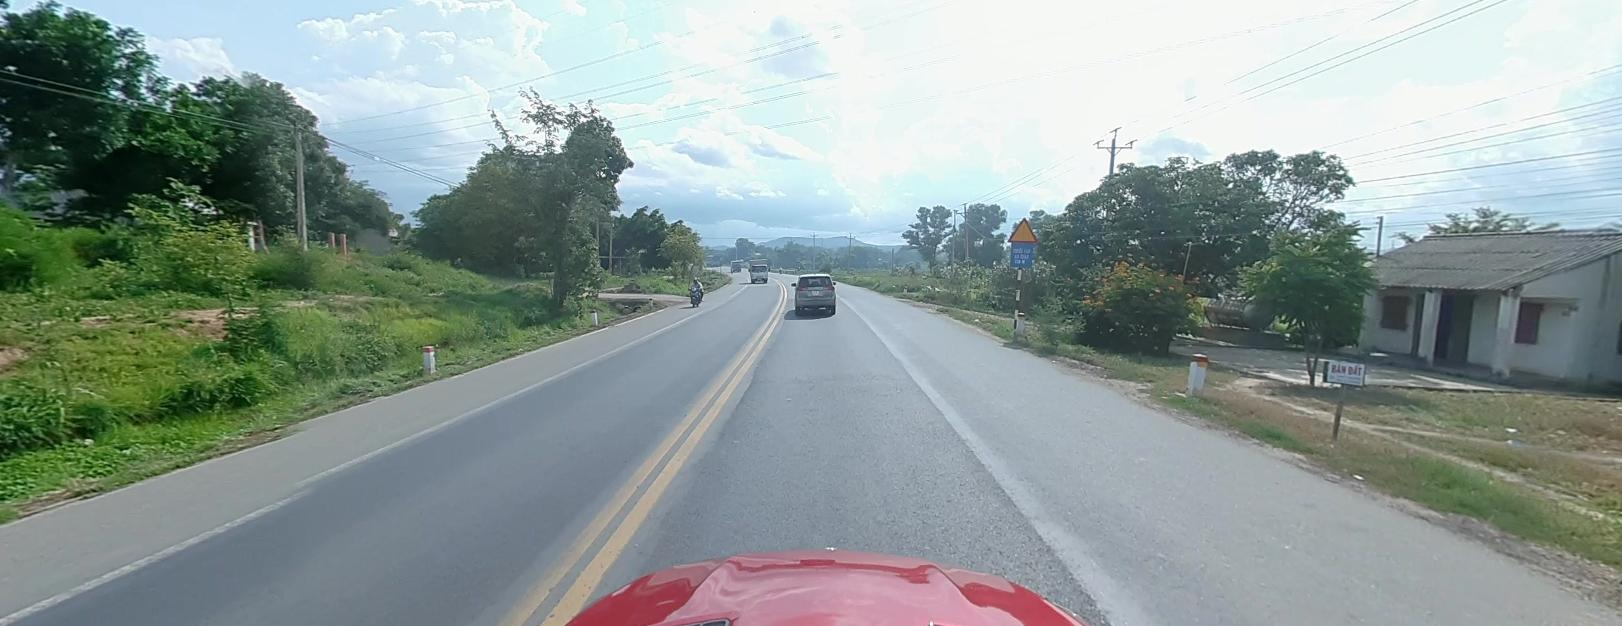Nguy hiem: (1006, 215, 1037, 241)
